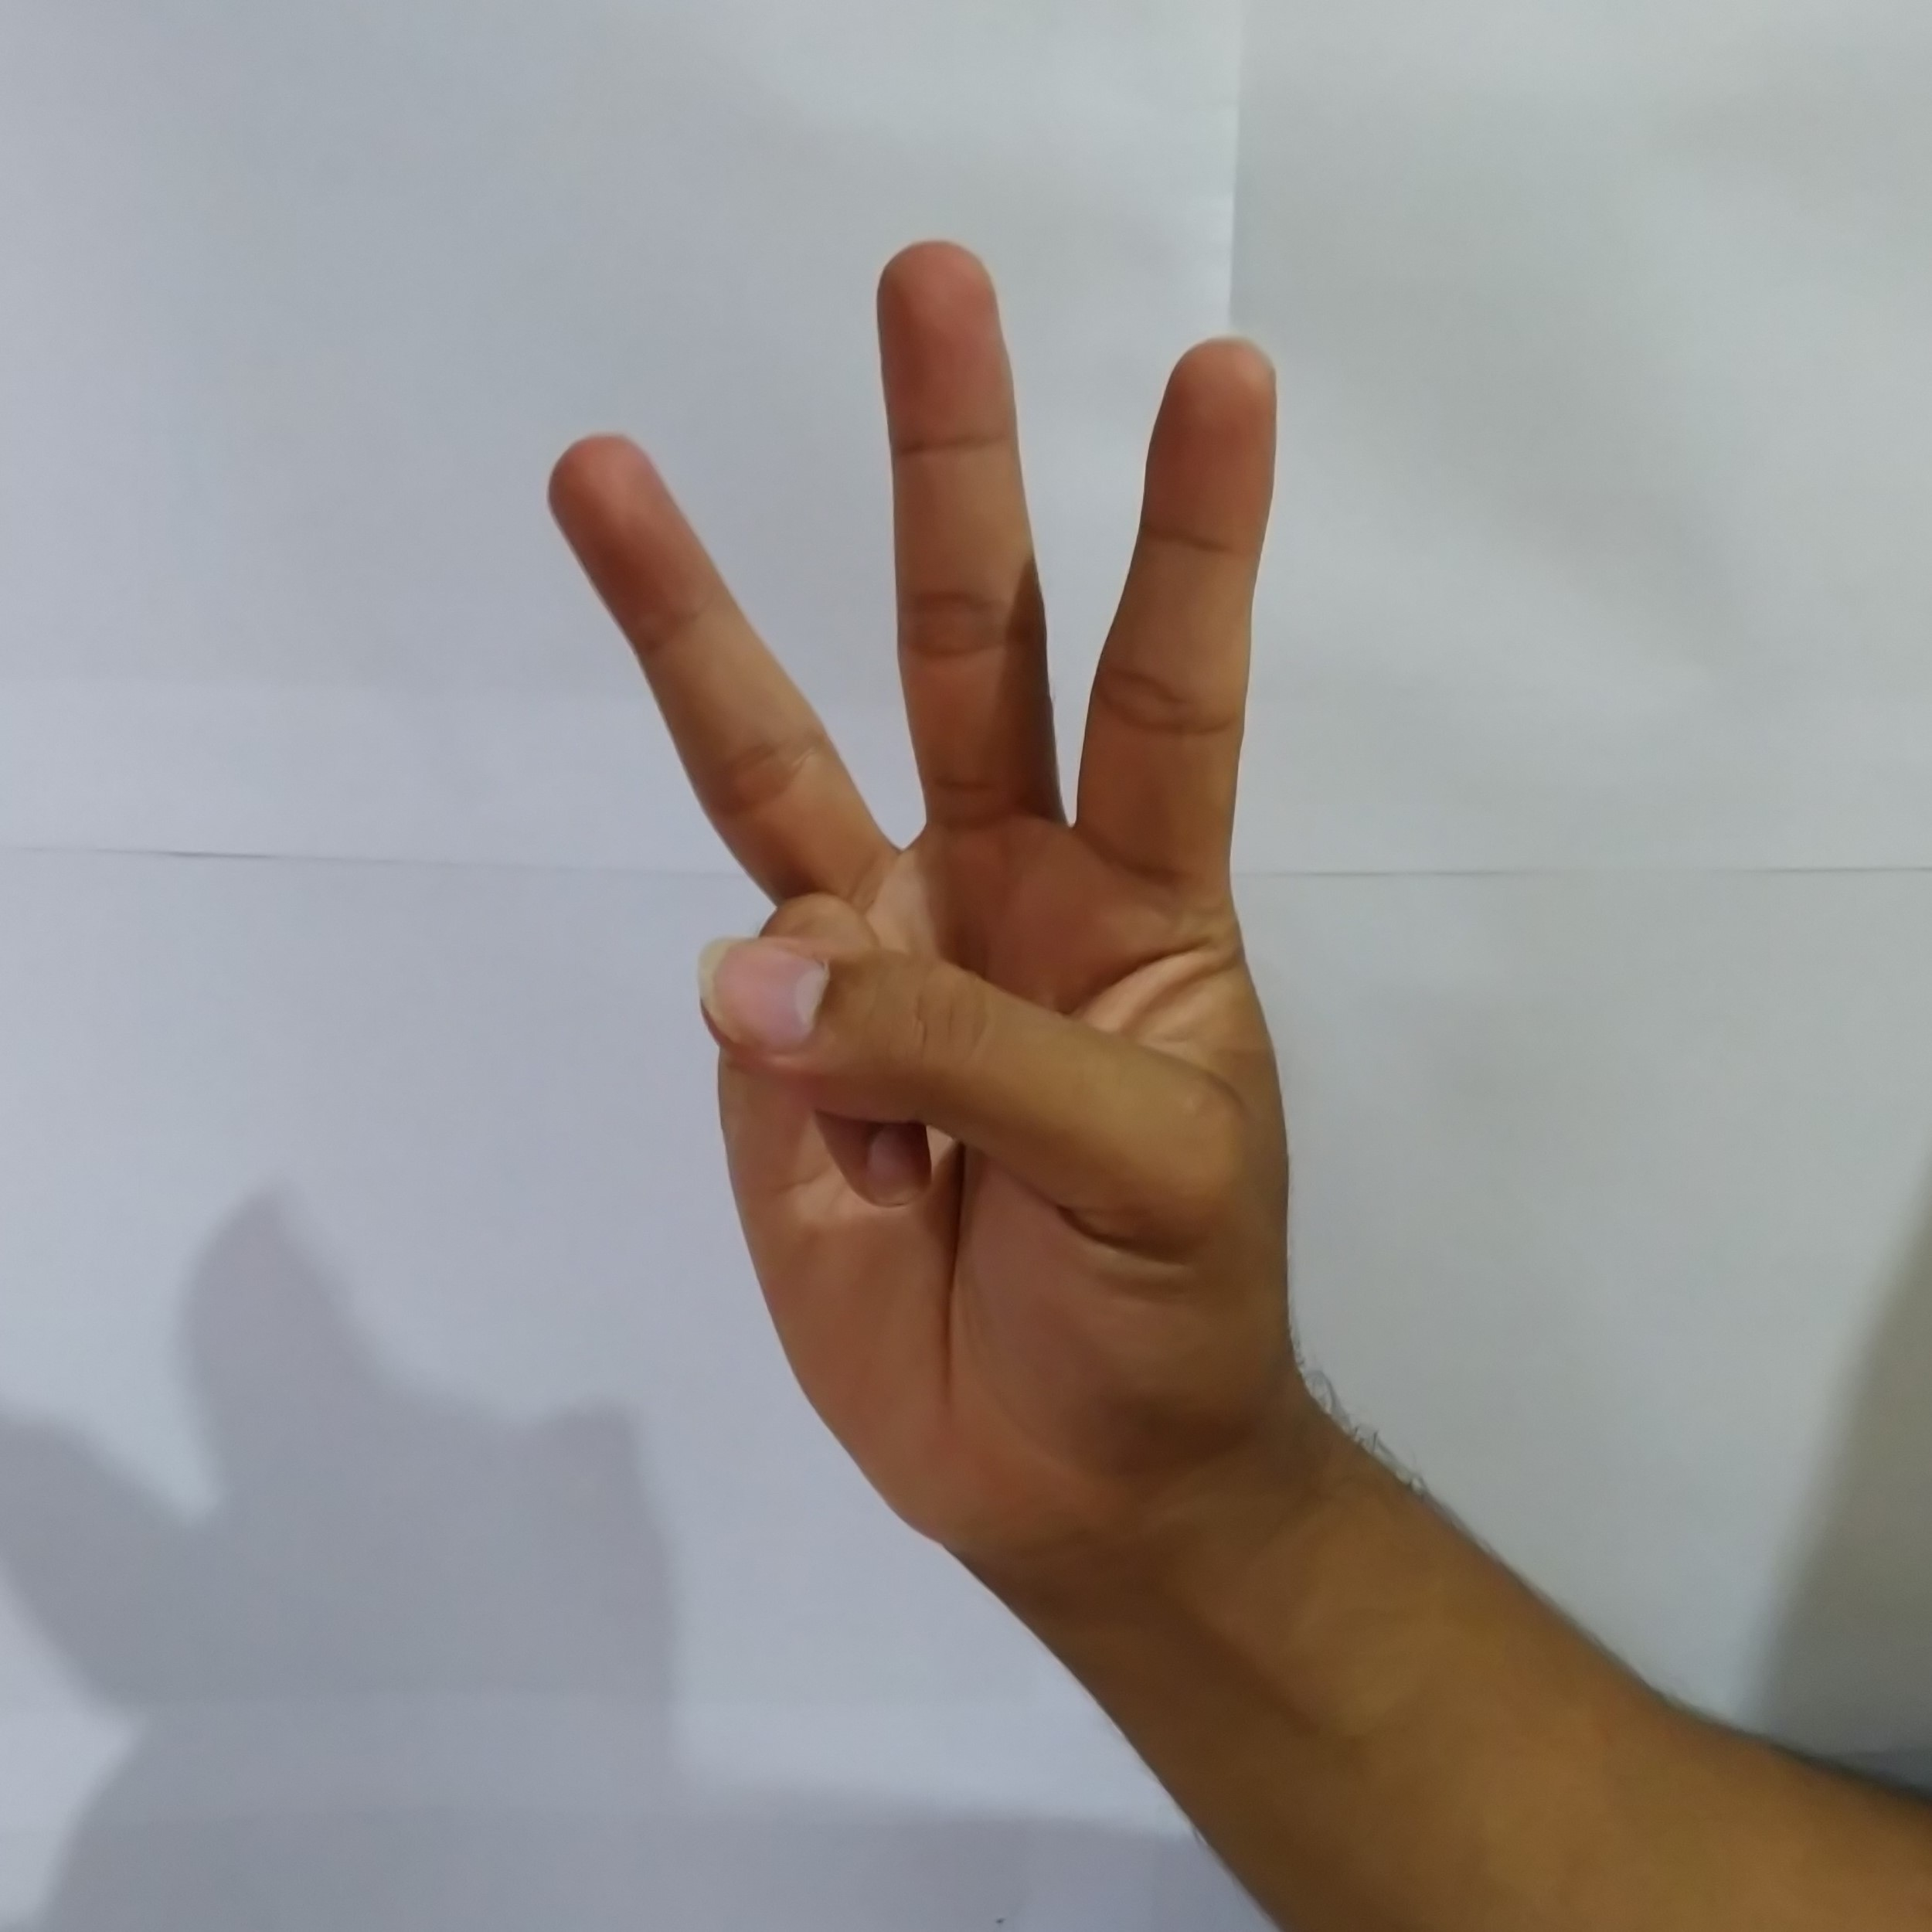W: (517, 218, 1419, 1493)
